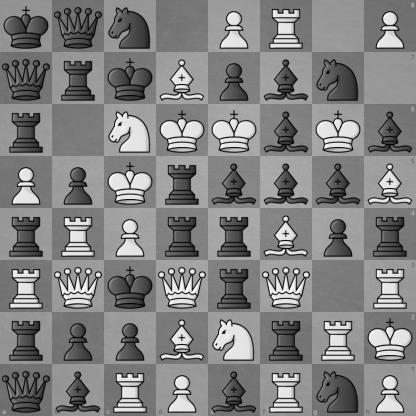B: (364, 156, 416, 209), (157, 53, 208, 104), (157, 313, 208, 364), (261, 209, 312, 260)
K: (364, 312, 416, 364), (105, 157, 156, 208), (157, 105, 208, 156), (209, 105, 260, 156), (313, 105, 364, 156)
N: (105, 105, 156, 156), (209, 313, 260, 364)
P: (156, 364, 209, 416), (364, 0, 416, 52), (364, 364, 416, 416), (1, 157, 52, 208), (105, 209, 156, 260), (209, 1, 260, 52)
Q: (53, 261, 104, 312), (157, 261, 208, 312), (261, 261, 312, 312)
R: (104, 364, 156, 416), (260, 364, 312, 416), (364, 260, 416, 312), (1, 261, 52, 312), (53, 209, 104, 260), (261, 1, 312, 52), (313, 313, 364, 364)
b: (52, 364, 104, 416), (364, 104, 416, 156), (209, 364, 260, 416), (209, 157, 260, 208), (261, 53, 312, 104), (261, 105, 312, 156), (261, 157, 312, 208), (313, 157, 364, 208)
board: (0, 0, 415, 415)
k: (1, 1, 52, 52), (105, 53, 156, 104), (105, 261, 156, 312)
n: (312, 364, 364, 416), (105, 1, 156, 52), (313, 53, 364, 104)
p: (53, 157, 104, 208), (53, 313, 104, 364), (105, 313, 156, 364), (209, 53, 260, 104), (313, 209, 364, 260)
q: (0, 364, 52, 416), (1, 53, 52, 104), (53, 1, 104, 52)
r: (364, 209, 416, 260), (1, 105, 52, 156), (1, 209, 52, 260), (1, 313, 52, 364), (53, 53, 104, 104), (157, 157, 208, 208), (157, 209, 208, 260), (209, 209, 260, 260), (209, 261, 260, 312), (261, 313, 312, 364)
